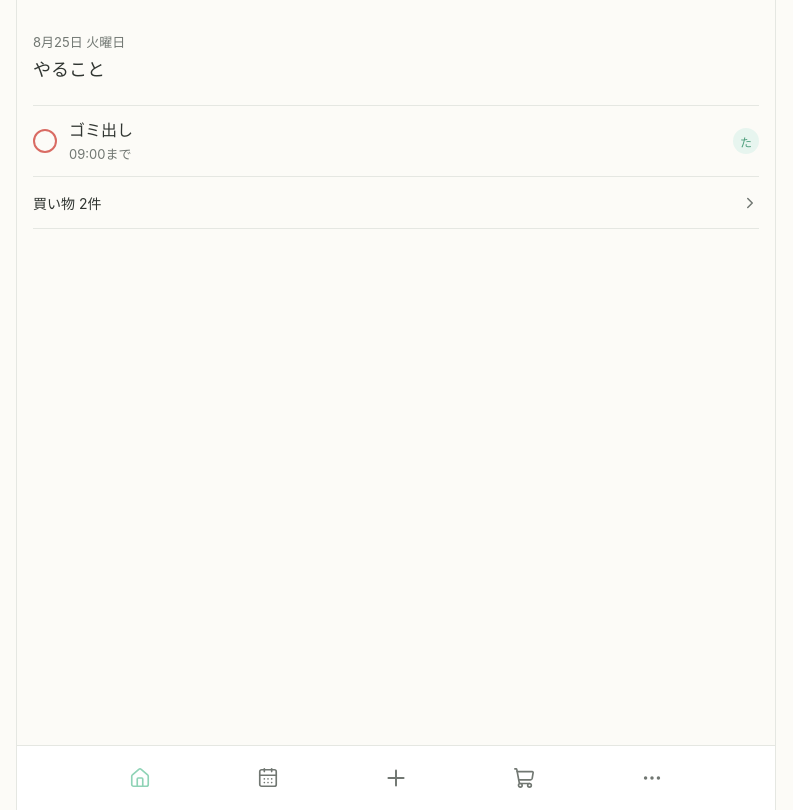
Scenario: M2 Home › opens inline details without completing, then completes exactly once from the primary action
The width and height of the screenshot is (793, 810).
What coordinates should you click on to do the following:
click the button with aria-label "ゴミ出しの詳細"
I would click on:
 (101, 130)
Its box is [33, 106, 759, 176].
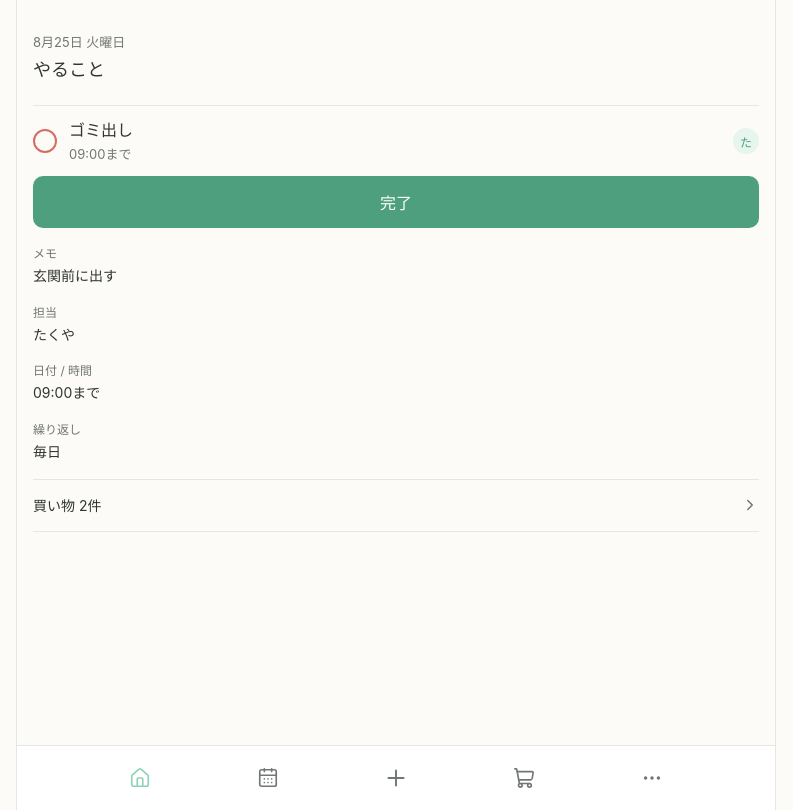
Check: the button "完了" is shown
Check: the text "玄関前に出す" is shown, box [33, 267, 117, 284]
What coordinates should you click on to do the following:
click the button "完了"
I would click on:
 (396, 202)
Its box is [33, 176, 759, 228].
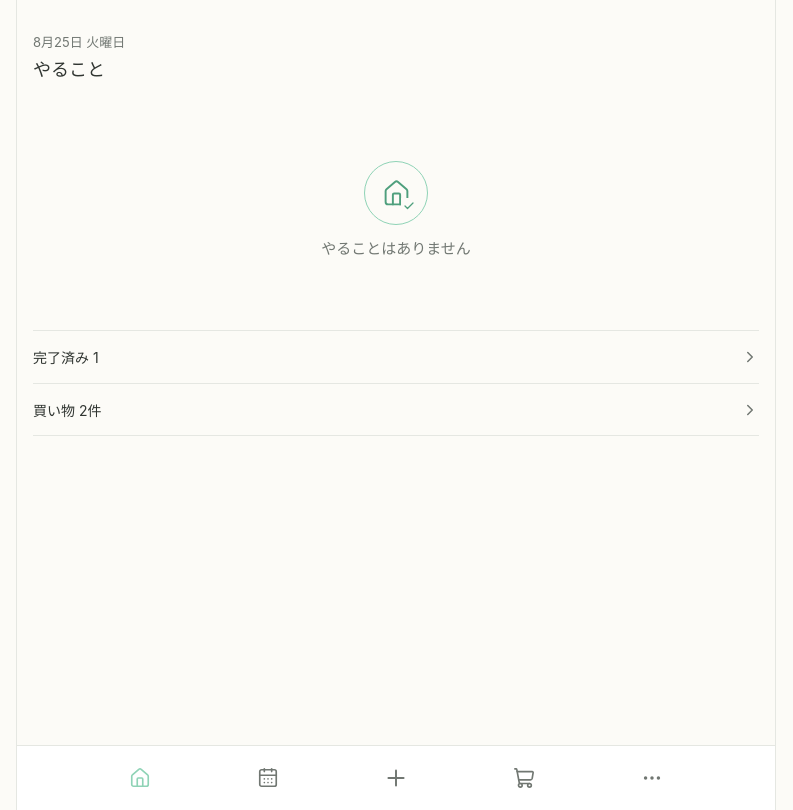
Check: the text "完了済み 1" is shown, box [33, 347, 99, 367]
What coordinates should you click on to do the following:
click the button "完了済み 1"
I would click on:
 (63, 358)
Its box is [33, 331, 759, 383].
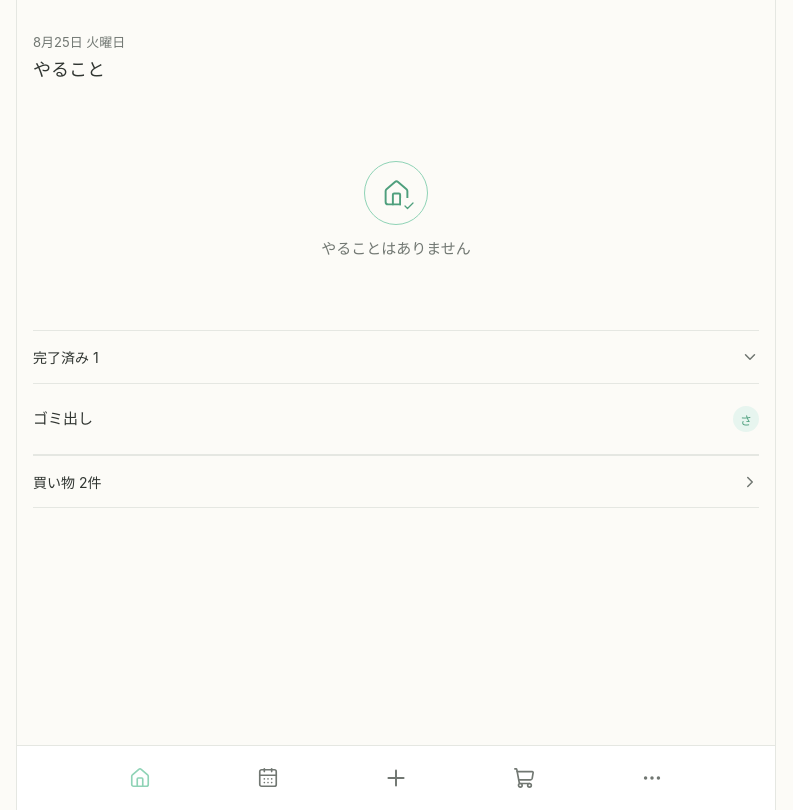
Check: the text "ゴミ出し" is shown, box [33, 409, 93, 428]
